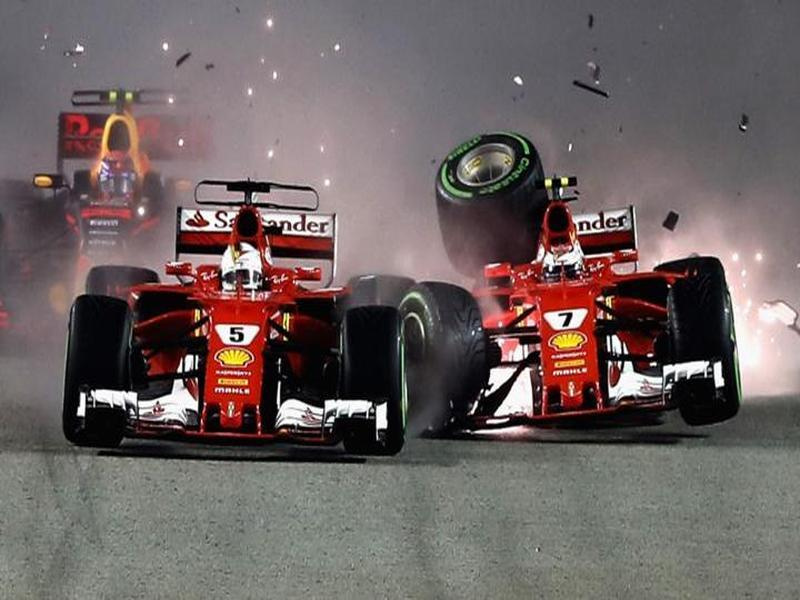f1: (75, 164, 449, 492), (387, 175, 749, 436)
